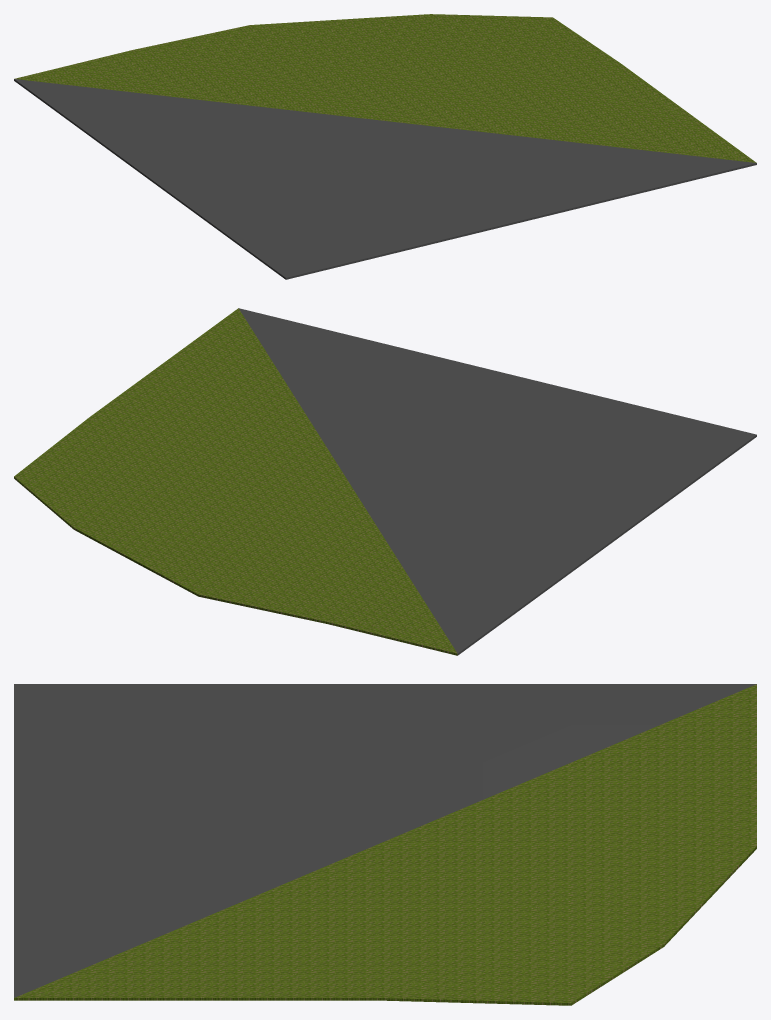
3 renders of one model, top to bottom at view 1: azimuth 30°, elevation 25°; view 2: azimuth 150°, elevation 25°; view 3: azimuth 270°, elevation 25°, orthographic. The views are drawn at different scales.
Visible parts, largest first — view 1: c2_base_plate-col; view 2: c2_base_plate-col; view 3: c2_base_plate-col.
Part boxes in pixels (x1,y1,x2,y2): c2_base_plate-col: (14, 14, 756, 279); c2_base_plate-col: (14, 308, 756, 655); c2_base_plate-col: (14, 684, 756, 1005).
Size of the model in its own units: 256 by 2.92 by 256.
2 materials, 1 textured.
